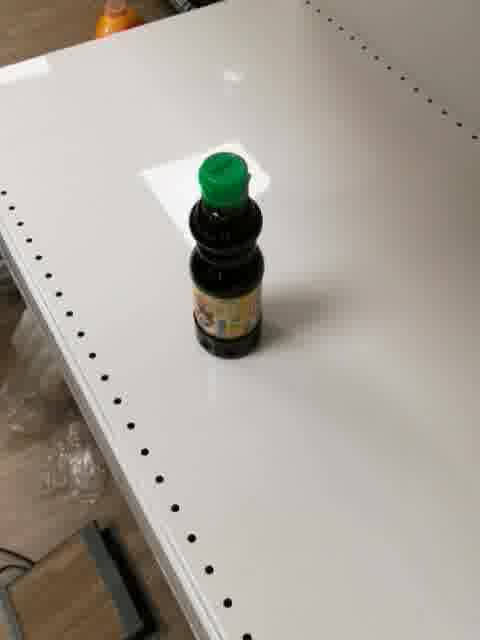cookingoil: (187, 150, 267, 362)
